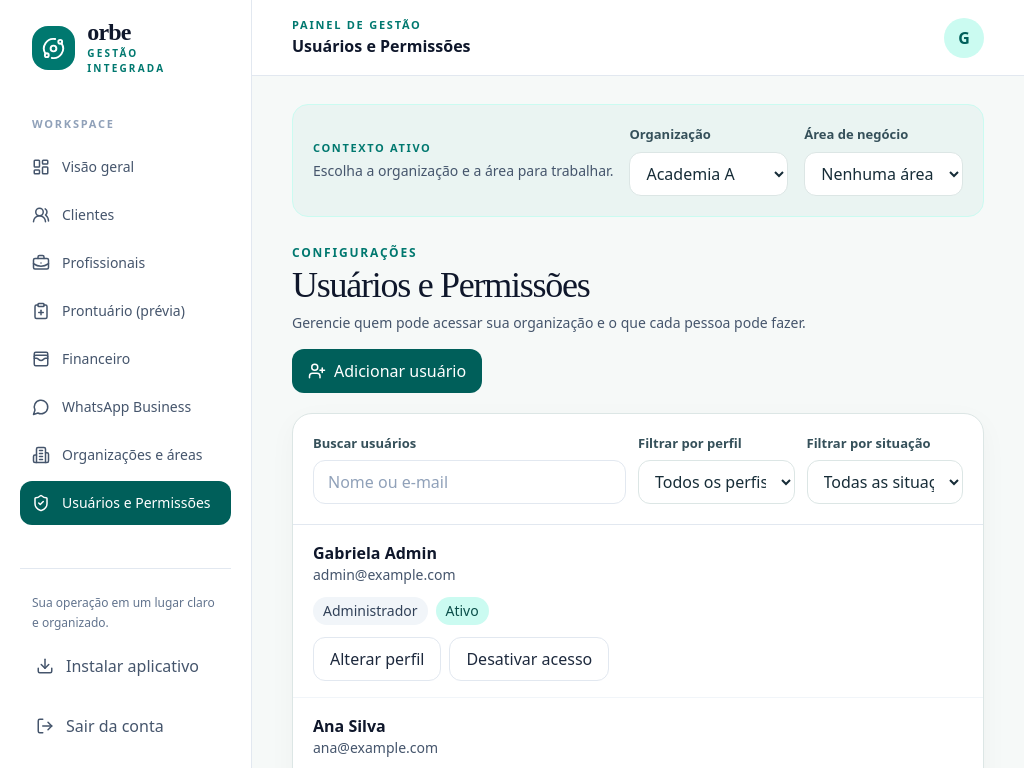
Test: Usuários e Permissões › valida senha e confirmação antes de enviar
Check: the text "Ana Silva" is shown, box [313,715,386,737]
Click the button "Adicionar usuário": (387, 370) [292,348,482,392]
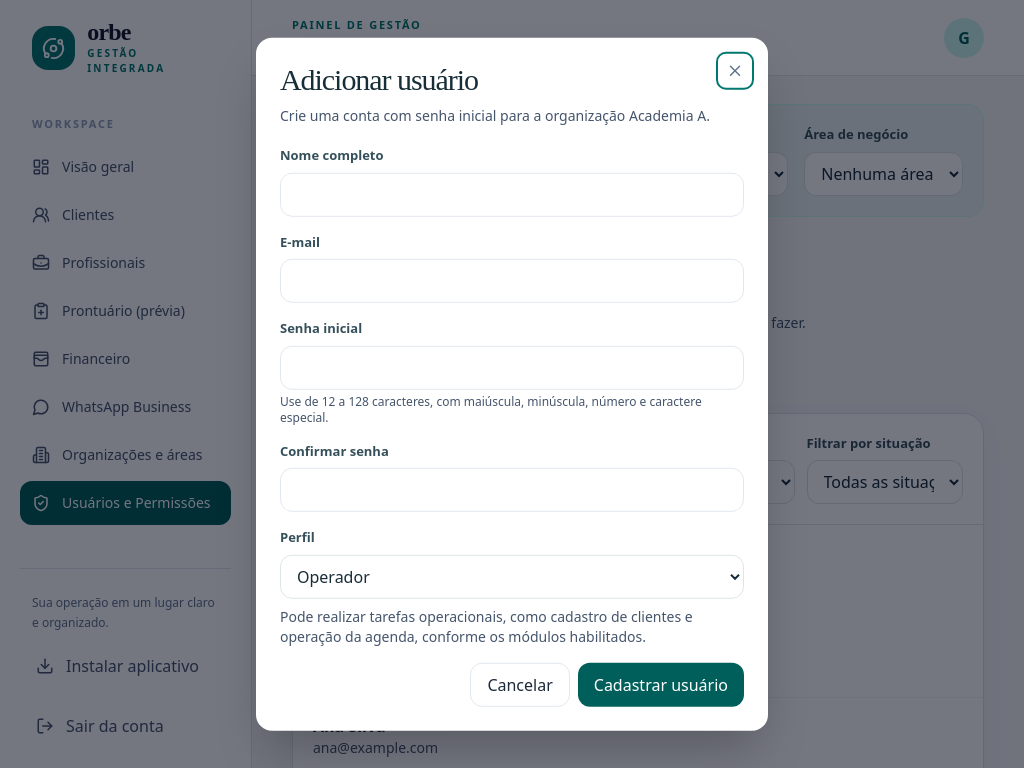
In the field labelled "Nome completo": (512, 194) [280,172,744,216], type " Beatriz Nunes "
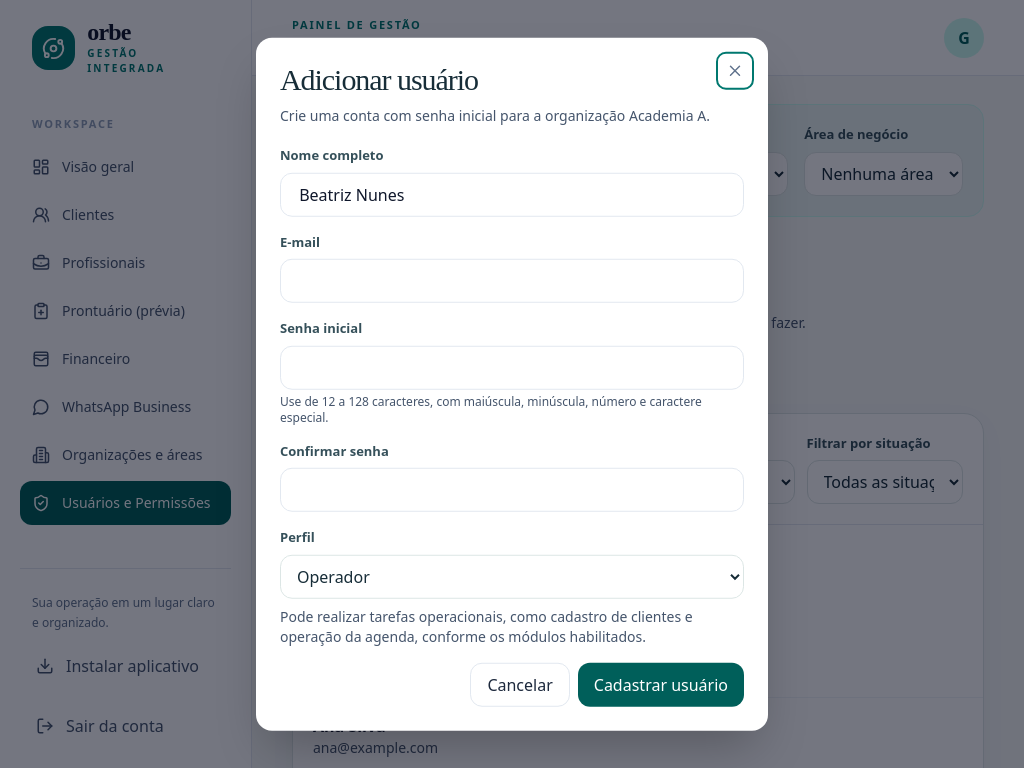
In the field labelled "E-mail": (512, 281) [280,259,744,303], type "BIA@example.com"
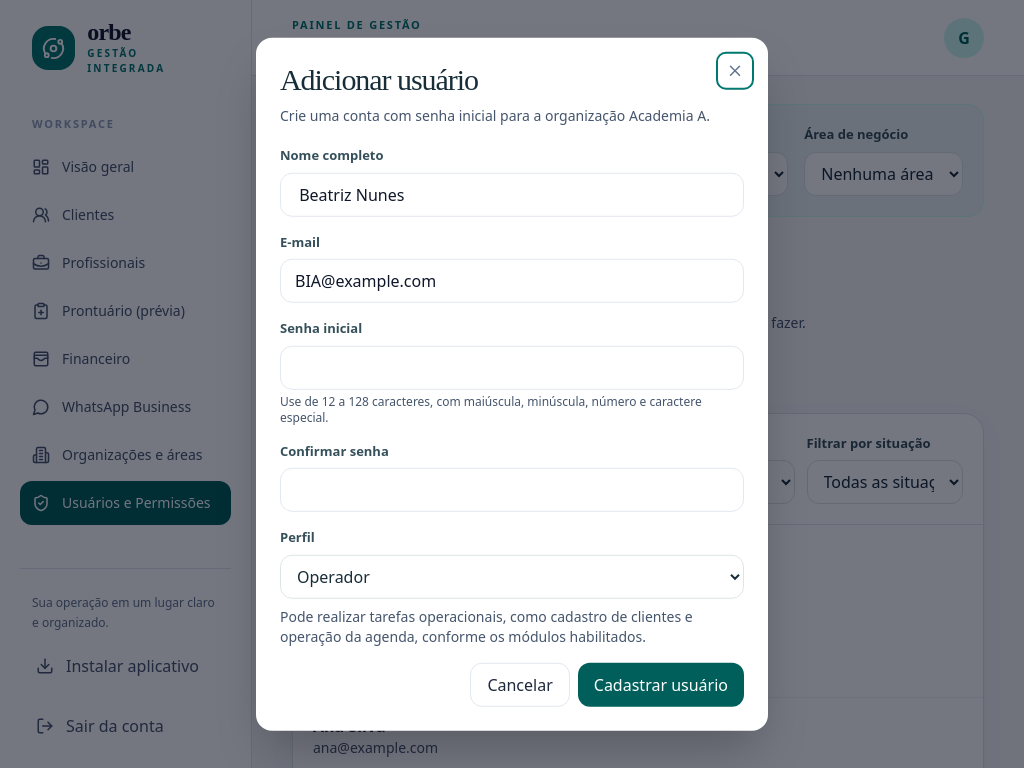
In the password field labelled "Senha inicial": (512, 367) [280,345,744,389], type "fraca"
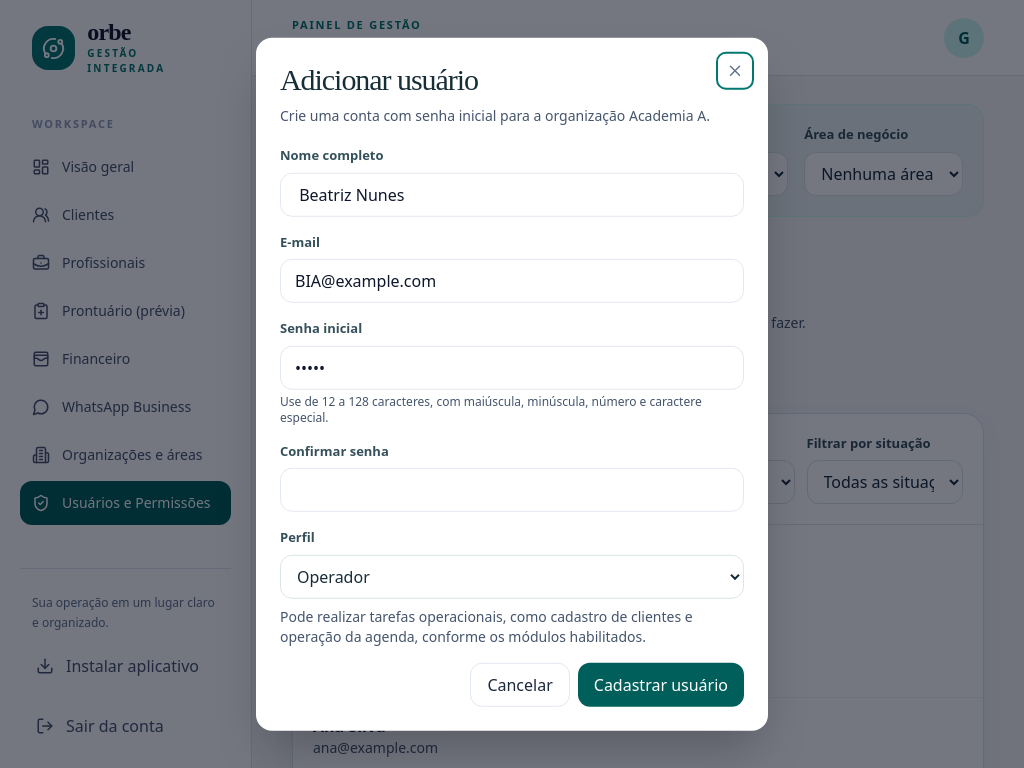
In the password field labelled "Confirmar senha": (512, 490) [280,468,744,512], type "Ficticia2026!"
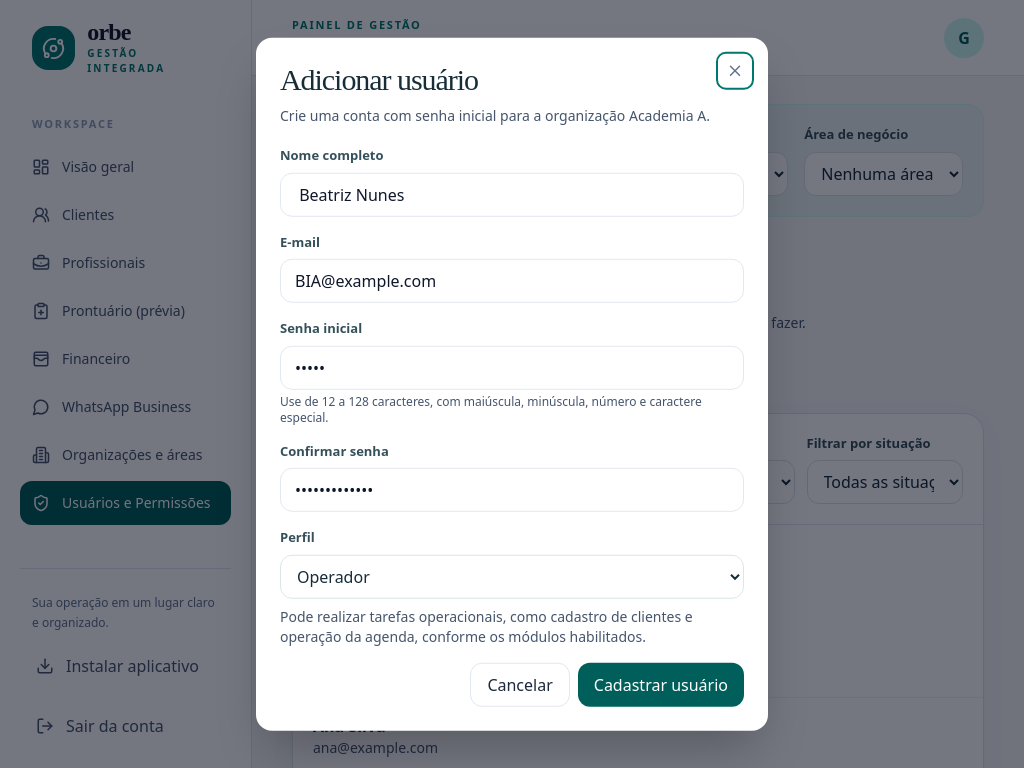
Click the button "Cadastrar usuário": (661, 684) [578,662,744,706]
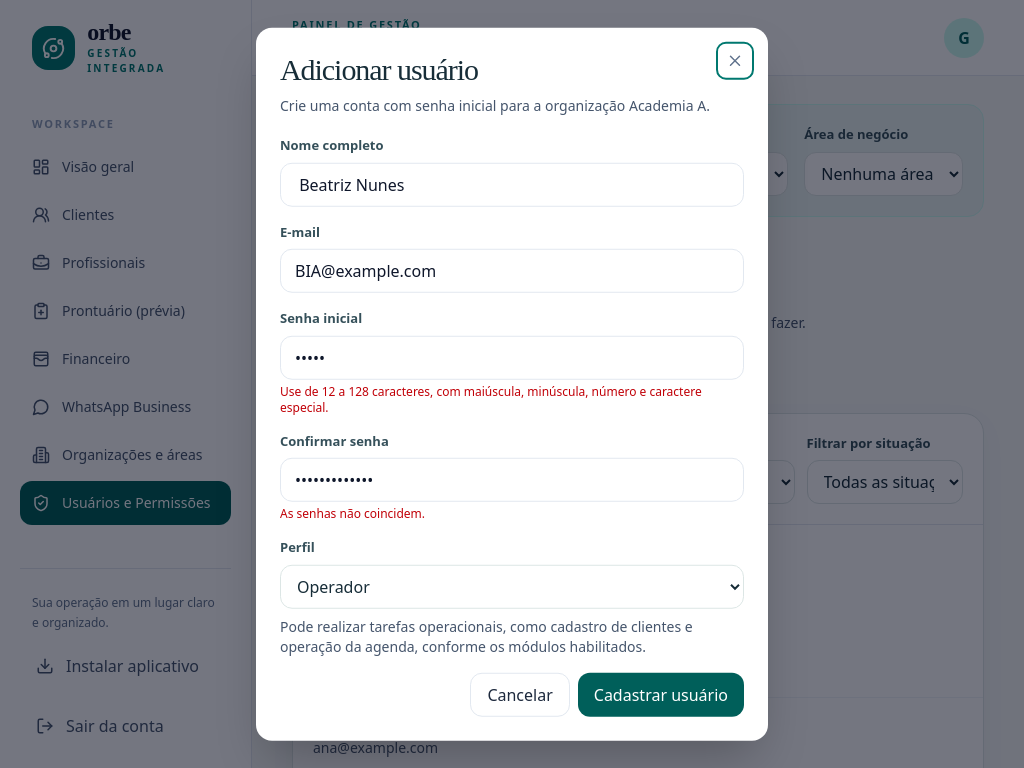
Check: the text "As senhas não coincidem." is shown, box [280,505,425,522]
